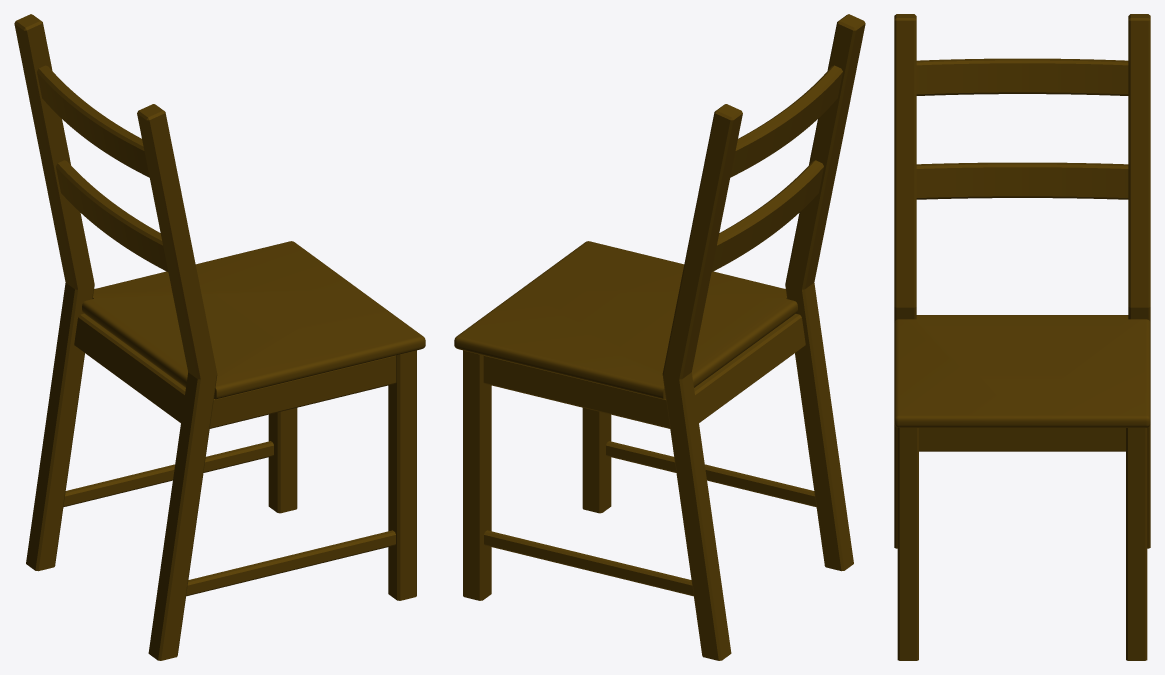
Rendered from Chair.FBX.
3 renders of one model, left to right at view 1: azimuth 30°, elevation 25°; view 2: azimuth 150°, elevation 25°; view 3: azimuth 270°, elevation 25°, orthographic. The views are drawn at different scales.
Visible parts, largest first — view 1: Legs, Cover; view 2: Legs, Cover; view 3: Legs, Cover.
Part boxes in pixels (x1=…): Legs: x1=14, y1=14, x2=416, y2=660; Cover: x1=82, y1=241, x2=425, y2=399; Legs: x1=463, y1=14, x2=865, y2=660; Cover: x1=454, y1=241, x2=797, y2=399; Legs: x1=894, y1=14, x2=1150, y2=660; Cover: x1=894, y1=315, x2=1150, y2=427.
Bounding box in the file's own units: 363 × 681 × 302.
